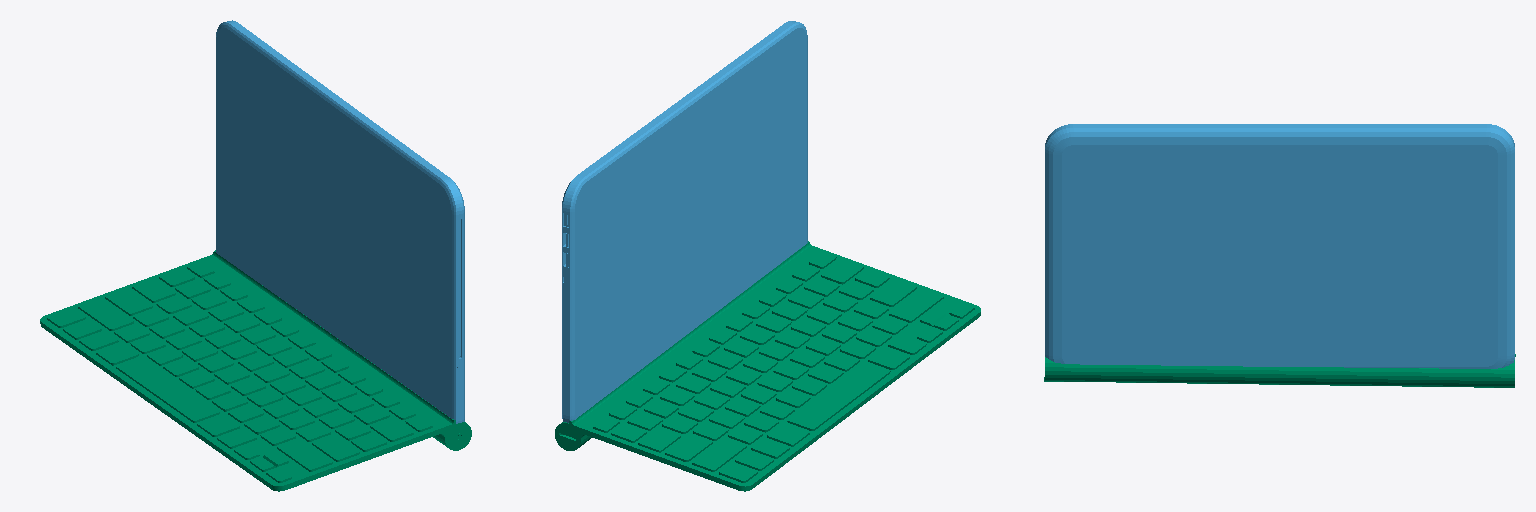
robot.urdf — partnet_f7c26b8c94ba8214397c35f585745a82:
<?xml version="1.0" ?>
<robot name="partnet_f7c26b8c94ba8214397c35f585745a82">
	<link name="base"/>
	<link name="link_0">
		<visual name="screen-7">
			<origin xyz="-0.8228353367190304 0.17855385109469168 0.1391766418171083"/>
			<geometry>
				<mesh filename="textured_objs/new-2.obj"/>
			</geometry>
		</visual>
		<visual name="screen_frame-8">
			<origin xyz="-0.8228353367190304 0.17855385109469168 0.1391766418171083"/>
			<geometry>
				<mesh filename="textured_objs/new-3.obj"/>
			</geometry>
		</visual>
		<collision>
			<origin xyz="-0.8228353367190304 0.17855385109469168 0.1391766418171083"/>
			<geometry>
				<mesh filename="textured_objs/new-2.obj"/>
			</geometry>
		</collision>
		<collision>
			<origin xyz="-0.8228353367190304 0.17855385109469168 0.1391766418171083"/>
			<geometry>
				<mesh filename="textured_objs/new-3.obj"/>
			</geometry>
		</collision>
	</link>
	<joint name="joint_0" type="revolute">
		<origin xyz="0.8228353367190304 -0.17855385109469168 -0.1391766418171083"/>
		<axis xyz="-1 0 0"/>
		<child link="link_0"/>
		<parent link="link_1"/>
		<limit lower="-1.6838936623241292" upper="-0.0"/>
	</joint>
	<link name="link_1">
		<visual name="shaft-4">
			<origin xyz="0 0 0"/>
			<geometry>
				<mesh filename="textured_objs/new-0.obj"/>
			</geometry>
		</visual>
		<visual name="keyboard-5">
			<origin xyz="0 0 0"/>
			<geometry>
				<mesh filename="textured_objs/original-8.obj"/>
			</geometry>
		</visual>
		<visual name="keyboard-5">
			<origin xyz="0 0 0"/>
			<geometry>
				<mesh filename="textured_objs/original-30.obj"/>
			</geometry>
		</visual>
		<visual name="keyboard-5">
			<origin xyz="0 0 0"/>
			<geometry>
				<mesh filename="textured_objs/original-53.obj"/>
			</geometry>
		</visual>
		<visual name="keyboard-5">
			<origin xyz="0 0 0"/>
			<geometry>
				<mesh filename="textured_objs/original-12.obj"/>
			</geometry>
		</visual>
		<visual name="keyboard-5">
			<origin xyz="0 0 0"/>
			<geometry>
				<mesh filename="textured_objs/original-15.obj"/>
			</geometry>
		</visual>
		<visual name="keyboard-5">
			<origin xyz="0 0 0"/>
			<geometry>
				<mesh filename="textured_objs/original-28.obj"/>
			</geometry>
		</visual>
		<visual name="keyboard-5">
			<origin xyz="0 0 0"/>
			<geometry>
				<mesh filename="textured_objs/original-82.obj"/>
			</geometry>
		</visual>
		<visual name="keyboard-5">
			<origin xyz="0 0 0"/>
			<geometry>
				<mesh filename="textured_objs/original-25.obj"/>
			</geometry>
		</visual>
		<visual name="keyboard-5">
			<origin xyz="0 0 0"/>
			<geometry>
				<mesh filename="textured_objs/original-10.obj"/>
			</geometry>
		</visual>
		<visual name="keyboard-5">
			<origin xyz="0 0 0"/>
			<geometry>
				<mesh filename="textured_objs/original-81.obj"/>
			</geometry>
		</visual>
		<visual name="keyboard-5">
			<origin xyz="0 0 0"/>
			<geometry>
				<mesh filename="textured_objs/original-71.obj"/>
			</geometry>
		</visual>
		<visual name="keyboard-5">
			<origin xyz="0 0 0"/>
			<geometry>
				<mesh filename="textured_objs/original-70.obj"/>
			</geometry>
		</visual>
		<visual name="keyboard-5">
			<origin xyz="0 0 0"/>
			<geometry>
				<mesh filename="textured_objs/original-58.obj"/>
			</geometry>
		</visual>
		<visual name="keyboard-5">
			<origin xyz="0 0 0"/>
			<geometry>
				<mesh filename="textured_objs/original-9.obj"/>
			</geometry>
		</visual>
		<visual name="keyboard-5">
			<origin xyz="0 0 0"/>
			<geometry>
				<mesh filename="textured_objs/original-11.obj"/>
			</geometry>
		</visual>
		<visual name="keyboard-5">
			<origin xyz="0 0 0"/>
			<geometry>
				<mesh filename="textured_objs/original-60.obj"/>
			</geometry>
		</visual>
		<visual name="keyboard-5">
			<origin xyz="0 0 0"/>
			<geometry>
				<mesh filename="textured_objs/original-63.obj"/>
			</geometry>
		</visual>
		<visual name="keyboard-5">
			<origin xyz="0 0 0"/>
			<geometry>
				<mesh filename="textured_objs/original-72.obj"/>
			</geometry>
		</visual>
		<visual name="keyboard-5">
			<origin xyz="0 0 0"/>
			<geometry>
				<mesh filename="textured_objs/original-83.obj"/>
			</geometry>
		</visual>
		<visual name="keyboard-5">
			<origin xyz="0 0 0"/>
			<geometry>
				<mesh filename="textured_objs/original-19.obj"/>
			</geometry>
		</visual>
		<visual name="keyboard-5">
			<origin xyz="0 0 0"/>
			<geometry>
				<mesh filename="textured_objs/original-80.obj"/>
			</geometry>
		</visual>
		<visual name="keyboard-5">
			<origin xyz="0 0 0"/>
			<geometry>
				<mesh filename="textured_objs/original-34.obj"/>
			</geometry>
		</visual>
		<visual name="keyboard-5">
			<origin xyz="0 0 0"/>
			<geometry>
				<mesh filename="textured_objs/original-64.obj"/>
			</geometry>
		</visual>
		<visual name="keyboard-5">
			<origin xyz="0 0 0"/>
			<geometry>
				<mesh filename="textured_objs/original-59.obj"/>
			</geometry>
		</visual>
		<visual name="keyboard-5">
			<origin xyz="0 0 0"/>
			<geometry>
				<mesh filename="textured_objs/original-17.obj"/>
			</geometry>
		</visual>
		<visual name="keyboard-5">
			<origin xyz="0 0 0"/>
			<geometry>
				<mesh filename="textured_objs/original-14.obj"/>
			</geometry>
		</visual>
		<visual name="keyboard-5">
			<origin xyz="0 0 0"/>
			<geometry>
				<mesh filename="textured_objs/original-62.obj"/>
			</geometry>
		</visual>
		<visual name="keyboard-5">
			<origin xyz="0 0 0"/>
			<geometry>
				<mesh filename="textured_objs/original-52.obj"/>
			</geometry>
		</visual>
		<visual name="keyboard-5">
			<origin xyz="0 0 0"/>
			<geometry>
				<mesh filename="textured_objs/original-37.obj"/>
			</geometry>
		</visual>
		<visual name="keyboard-5">
			<origin xyz="0 0 0"/>
			<geometry>
				<mesh filename="textured_objs/original-76.obj"/>
			</geometry>
		</visual>
		<visual name="keyboard-5">
			<origin xyz="0 0 0"/>
			<geometry>
				<mesh filename="textured_objs/original-73.obj"/>
			</geometry>
		</visual>
		<visual name="keyboard-5">
			<origin xyz="0 0 0"/>
			<geometry>
				<mesh filename="textured_objs/original-36.obj"/>
			</geometry>
		</visual>
		<visual name="keyboard-5">
			<origin xyz="0 0 0"/>
			<geometry>
				<mesh filename="textured_objs/original-51.obj"/>
			</geometry>
		</visual>
		<visual name="keyboard-5">
			<origin xyz="0 0 0"/>
			<geometry>
				<mesh filename="textured_objs/original-61.obj"/>
			</geometry>
		</visual>
		<visual name="keyboard-5">
			<origin xyz="0 0 0"/>
			<geometry>
				<mesh filename="textured_objs/original-69.obj"/>
			</geometry>
		</visual>
		<visual name="keyboard-5">
			<origin xyz="0 0 0"/>
			<geometry>
				<mesh filename="textured_objs/original-20.obj"/>
			</geometry>
		</visual>
		<visual name="keyboard-5">
			<origin xyz="0 0 0"/>
			<geometry>
				<mesh filename="textured_objs/original-16.obj"/>
			</geometry>
		</visual>
		<visual name="keyboard-5">
			<origin xyz="0 0 0"/>
			<geometry>
				<mesh filename="textured_objs/original-26.obj"/>
			</geometry>
		</visual>
		<visual name="keyboard-5">
			<origin xyz="0 0 0"/>
			<geometry>
				<mesh filename="textured_objs/original-46.obj"/>
			</geometry>
		</visual>
		<visual name="keyboard-5">
			<origin xyz="0 0 0"/>
			<geometry>
				<mesh filename="textured_objs/original-54.obj"/>
			</geometry>
		</visual>
		<visual name="keyboard-5">
			<origin xyz="0 0 0"/>
			<geometry>
				<mesh filename="textured_objs/original-35.obj"/>
			</geometry>
		</visual>
		<visual name="keyboard-5">
			<origin xyz="0 0 0"/>
			<geometry>
				<mesh filename="textured_objs/original-79.obj"/>
			</geometry>
		</visual>
		<visual name="keyboard-5">
			<origin xyz="0 0 0"/>
			<geometry>
				<mesh filename="textured_objs/original-74.obj"/>
			</geometry>
		</visual>
		<visual name="keyboard-5">
			<origin xyz="0 0 0"/>
			<geometry>
				<mesh filename="textured_objs/original-33.obj"/>
			</geometry>
		</visual>
		<visual name="keyboard-5">
			<origin xyz="0 0 0"/>
			<geometry>
				<mesh filename="textured_objs/original-65.obj"/>
			</geometry>
		</visual>
		<visual name="keyboard-5">
			<origin xyz="0 0 0"/>
			<geometry>
				<mesh filename="textured_objs/original-43.obj"/>
			</geometry>
		</visual>
		<visual name="keyboard-5">
			<origin xyz="0 0 0"/>
			<geometry>
				<mesh filename="textured_objs/original-24.obj"/>
			</geometry>
		</visual>
		<visual name="keyboard-5">
			<origin xyz="0 0 0"/>
			<geometry>
				<mesh filename="textured_objs/original-22.obj"/>
			</geometry>
		</visual>
		<visual name="keyboard-5">
			<origin xyz="0 0 0"/>
			<geometry>
				<mesh filename="textured_objs/original-44.obj"/>
			</geometry>
		</visual>
		<visual name="keyboard-5">
			<origin xyz="0 0 0"/>
			<geometry>
				<mesh filename="textured_objs/original-67.obj"/>
			</geometry>
		</visual>
		<visual name="keyboard-5">
			<origin xyz="0 0 0"/>
			<geometry>
				<mesh filename="textured_objs/original-40.obj"/>
			</geometry>
		</visual>
		<visual name="keyboard-5">
			<origin xyz="0 0 0"/>
			<geometry>
				<mesh filename="textured_objs/original-77.obj"/>
			</geometry>
		</visual>
		<visual name="keyboard-5">
			<origin xyz="0 0 0"/>
			<geometry>
				<mesh filename="textured_objs/original-27.obj"/>
			</geometry>
		</visual>
		<visual name="keyboard-5">
			<origin xyz="0 0 0"/>
			<geometry>
				<mesh filename="textured_objs/original-13.obj"/>
			</geometry>
		</visual>
		<visual name="keyboard-5">
			<origin xyz="0 0 0"/>
			<geometry>
				<mesh filename="textured_objs/original-75.obj"/>
			</geometry>
		</visual>
		<visual name="keyboard-5">
			<origin xyz="0 0 0"/>
			<geometry>
				<mesh filename="textured_objs/original-38.obj"/>
			</geometry>
		</visual>
		<visual name="keyboard-5">
			<origin xyz="0 0 0"/>
			<geometry>
				<mesh filename="textured_objs/original-66.obj"/>
			</geometry>
		</visual>
		<visual name="keyboard-5">
			<origin xyz="0 0 0"/>
			<geometry>
				<mesh filename="textured_objs/original-57.obj"/>
			</geometry>
		</visual>
		<visual name="keyboard-5">
			<origin xyz="0 0 0"/>
			<geometry>
				<mesh filename="textured_objs/original-68.obj"/>
			</geometry>
		</visual>
		<visual name="keyboard-5">
			<origin xyz="0 0 0"/>
			<geometry>
				<mesh filename="textured_objs/original-78.obj"/>
			</geometry>
		</visual>
		<visual name="keyboard-5">
			<origin xyz="0 0 0"/>
			<geometry>
				<mesh filename="textured_objs/original-29.obj"/>
			</geometry>
		</visual>
		<visual name="keyboard-5">
			<origin xyz="0 0 0"/>
			<geometry>
				<mesh filename="textured_objs/original-18.obj"/>
			</geometry>
		</visual>
		<visual name="keyboard-5">
			<origin xyz="0 0 0"/>
			<geometry>
				<mesh filename="textured_objs/original-32.obj"/>
			</geometry>
		</visual>
		<visual name="keyboard-5">
			<origin xyz="0 0 0"/>
			<geometry>
				<mesh filename="textured_objs/original-23.obj"/>
			</geometry>
		</visual>
		<visual name="keyboard-5">
			<origin xyz="0 0 0"/>
			<geometry>
				<mesh filename="textured_objs/original-7.obj"/>
			</geometry>
		</visual>
		<visual name="keyboard-5">
			<origin xyz="0 0 0"/>
			<geometry>
				<mesh filename="textured_objs/original-39.obj"/>
			</geometry>
		</visual>
		<visual name="keyboard-5">
			<origin xyz="0 0 0"/>
			<geometry>
				<mesh filename="textured_objs/original-56.obj"/>
			</geometry>
		</visual>
		<visual name="keyboard-5">
			<origin xyz="0 0 0"/>
			<geometry>
				<mesh filename="textured_objs/original-55.obj"/>
			</geometry>
		</visual>
		<visual name="keyboard-5">
			<origin xyz="0 0 0"/>
			<geometry>
				<mesh filename="textured_objs/original-50.obj"/>
			</geometry>
		</visual>
		<visual name="keyboard-5">
			<origin xyz="0 0 0"/>
			<geometry>
				<mesh filename="textured_objs/original-45.obj"/>
			</geometry>
		</visual>
		<visual name="keyboard-5">
			<origin xyz="0 0 0"/>
			<geometry>
				<mesh filename="textured_objs/original-42.obj"/>
			</geometry>
		</visual>
		<visual name="keyboard-5">
			<origin xyz="0 0 0"/>
			<geometry>
				<mesh filename="textured_objs/original-31.obj"/>
			</geometry>
		</visual>
		<visual name="keyboard-5">
			<origin xyz="0 0 0"/>
			<geometry>
				<mesh filename="textured_objs/original-49.obj"/>
			</geometry>
		</visual>
		<visual name="keyboard-5">
			<origin xyz="0 0 0"/>
			<geometry>
				<mesh filename="textured_objs/original-47.obj"/>
			</geometry>
		</visual>
		<visual name="keyboard-5">
			<origin xyz="0 0 0"/>
			<geometry>
				<mesh filename="textured_objs/original-41.obj"/>
			</geometry>
		</visual>
		<visual name="keyboard-5">
			<origin xyz="0 0 0"/>
			<geometry>
				<mesh filename="textured_objs/original-21.obj"/>
			</geometry>
		</visual>
		<visual name="keyboard-5">
			<origin xyz="0 0 0"/>
			<geometry>
				<mesh filename="textured_objs/original-48.obj"/>
			</geometry>
		</visual>
		<visual name="base_frame-6">
			<origin xyz="0 0 0"/>
			<geometry>
				<mesh filename="textured_objs/new-1.obj"/>
			</geometry>
		</visual>
		<collision>
			<origin xyz="0 0 0"/>
			<geometry>
				<mesh filename="textured_objs/new-0.obj"/>
			</geometry>
		</collision>
		<collision>
			<origin xyz="0 0 0"/>
			<geometry>
				<mesh filename="textured_objs/original-8.obj"/>
			</geometry>
		</collision>
		<collision>
			<origin xyz="0 0 0"/>
			<geometry>
				<mesh filename="textured_objs/original-30.obj"/>
			</geometry>
		</collision>
		<collision>
			<origin xyz="0 0 0"/>
			<geometry>
				<mesh filename="textured_objs/original-53.obj"/>
			</geometry>
		</collision>
		<collision>
			<origin xyz="0 0 0"/>
			<geometry>
				<mesh filename="textured_objs/original-12.obj"/>
			</geometry>
		</collision>
		<collision>
			<origin xyz="0 0 0"/>
			<geometry>
				<mesh filename="textured_objs/original-15.obj"/>
			</geometry>
		</collision>
		<collision>
			<origin xyz="0 0 0"/>
			<geometry>
				<mesh filename="textured_objs/original-28.obj"/>
			</geometry>
		</collision>
		<collision>
			<origin xyz="0 0 0"/>
			<geometry>
				<mesh filename="textured_objs/original-82.obj"/>
			</geometry>
		</collision>
		<collision>
			<origin xyz="0 0 0"/>
			<geometry>
				<mesh filename="textured_objs/original-25.obj"/>
			</geometry>
		</collision>
		<collision>
			<origin xyz="0 0 0"/>
			<geometry>
				<mesh filename="textured_objs/original-10.obj"/>
			</geometry>
		</collision>
		<collision>
			<origin xyz="0 0 0"/>
			<geometry>
				<mesh filename="textured_objs/original-81.obj"/>
			</geometry>
		</collision>
		<collision>
			<origin xyz="0 0 0"/>
			<geometry>
				<mesh filename="textured_objs/original-71.obj"/>
			</geometry>
		</collision>
		<collision>
			<origin xyz="0 0 0"/>
			<geometry>
				<mesh filename="textured_objs/original-70.obj"/>
			</geometry>
		</collision>
		<collision>
			<origin xyz="0 0 0"/>
			<geometry>
				<mesh filename="textured_objs/original-58.obj"/>
			</geometry>
		</collision>
		<collision>
			<origin xyz="0 0 0"/>
			<geometry>
				<mesh filename="textured_objs/original-9.obj"/>
			</geometry>
		</collision>
		<collision>
			<origin xyz="0 0 0"/>
			<geometry>
				<mesh filename="textured_objs/original-11.obj"/>
			</geometry>
		</collision>
		<collision>
			<origin xyz="0 0 0"/>
			<geometry>
				<mesh filename="textured_objs/original-60.obj"/>
			</geometry>
		</collision>
		<collision>
			<origin xyz="0 0 0"/>
			<geometry>
				<mesh filename="textured_objs/original-63.obj"/>
			</geometry>
		</collision>
		<collision>
			<origin xyz="0 0 0"/>
			<geometry>
				<mesh filename="textured_objs/original-72.obj"/>
			</geometry>
		</collision>
		<collision>
			<origin xyz="0 0 0"/>
			<geometry>
				<mesh filename="textured_objs/original-83.obj"/>
			</geometry>
		</collision>
		<collision>
			<origin xyz="0 0 0"/>
			<geometry>
				<mesh filename="textured_objs/original-19.obj"/>
			</geometry>
		</collision>
		<collision>
			<origin xyz="0 0 0"/>
			<geometry>
				<mesh filename="textured_objs/original-80.obj"/>
			</geometry>
		</collision>
		<collision>
			<origin xyz="0 0 0"/>
			<geometry>
				<mesh filename="textured_objs/original-34.obj"/>
			</geometry>
		</collision>
		<collision>
			<origin xyz="0 0 0"/>
			<geometry>
				<mesh filename="textured_objs/original-64.obj"/>
			</geometry>
		</collision>
		<collision>
			<origin xyz="0 0 0"/>
			<geometry>
				<mesh filename="textured_objs/original-59.obj"/>
			</geometry>
		</collision>
		<collision>
			<origin xyz="0 0 0"/>
			<geometry>
				<mesh filename="textured_objs/original-17.obj"/>
			</geometry>
		</collision>
		<collision>
			<origin xyz="0 0 0"/>
			<geometry>
				<mesh filename="textured_objs/original-14.obj"/>
			</geometry>
		</collision>
		<collision>
			<origin xyz="0 0 0"/>
			<geometry>
				<mesh filename="textured_objs/original-62.obj"/>
			</geometry>
		</collision>
		<collision>
			<origin xyz="0 0 0"/>
			<geometry>
				<mesh filename="textured_objs/original-52.obj"/>
			</geometry>
		</collision>
		<collision>
			<origin xyz="0 0 0"/>
			<geometry>
				<mesh filename="textured_objs/original-37.obj"/>
			</geometry>
		</collision>
		<collision>
			<origin xyz="0 0 0"/>
			<geometry>
				<mesh filename="textured_objs/original-76.obj"/>
			</geometry>
		</collision>
		<collision>
			<origin xyz="0 0 0"/>
			<geometry>
				<mesh filename="textured_objs/original-73.obj"/>
			</geometry>
		</collision>
		<collision>
			<origin xyz="0 0 0"/>
			<geometry>
				<mesh filename="textured_objs/original-36.obj"/>
			</geometry>
		</collision>
		<collision>
			<origin xyz="0 0 0"/>
			<geometry>
				<mesh filename="textured_objs/original-51.obj"/>
			</geometry>
		</collision>
		<collision>
			<origin xyz="0 0 0"/>
			<geometry>
				<mesh filename="textured_objs/original-61.obj"/>
			</geometry>
		</collision>
		<collision>
			<origin xyz="0 0 0"/>
			<geometry>
				<mesh filename="textured_objs/original-69.obj"/>
			</geometry>
		</collision>
		<collision>
			<origin xyz="0 0 0"/>
			<geometry>
				<mesh filename="textured_objs/original-20.obj"/>
			</geometry>
		</collision>
		<collision>
			<origin xyz="0 0 0"/>
			<geometry>
				<mesh filename="textured_objs/original-16.obj"/>
			</geometry>
		</collision>
		<collision>
			<origin xyz="0 0 0"/>
			<geometry>
				<mesh filename="textured_objs/original-26.obj"/>
			</geometry>
		</collision>
		<collision>
			<origin xyz="0 0 0"/>
			<geometry>
				<mesh filename="textured_objs/original-46.obj"/>
			</geometry>
		</collision>
		<collision>
			<origin xyz="0 0 0"/>
			<geometry>
				<mesh filename="textured_objs/original-54.obj"/>
			</geometry>
		</collision>
		<collision>
			<origin xyz="0 0 0"/>
			<geometry>
				<mesh filename="textured_objs/original-35.obj"/>
			</geometry>
		</collision>
		<collision>
			<origin xyz="0 0 0"/>
			<geometry>
				<mesh filename="textured_objs/original-79.obj"/>
			</geometry>
		</collision>
		<collision>
			<origin xyz="0 0 0"/>
			<geometry>
				<mesh filename="textured_objs/original-74.obj"/>
			</geometry>
		</collision>
		<collision>
			<origin xyz="0 0 0"/>
			<geometry>
				<mesh filename="textured_objs/original-33.obj"/>
			</geometry>
		</collision>
		<collision>
			<origin xyz="0 0 0"/>
			<geometry>
				<mesh filename="textured_objs/original-65.obj"/>
			</geometry>
		</collision>
		<collision>
			<origin xyz="0 0 0"/>
			<geometry>
				<mesh filename="textured_objs/original-43.obj"/>
			</geometry>
		</collision>
		<collision>
			<origin xyz="0 0 0"/>
			<geometry>
				<mesh filename="textured_objs/original-24.obj"/>
			</geometry>
		</collision>
		<collision>
			<origin xyz="0 0 0"/>
			<geometry>
				<mesh filename="textured_objs/original-22.obj"/>
			</geometry>
		</collision>
		<collision>
			<origin xyz="0 0 0"/>
			<geometry>
				<mesh filename="textured_objs/original-44.obj"/>
			</geometry>
		</collision>
		<collision>
			<origin xyz="0 0 0"/>
			<geometry>
				<mesh filename="textured_objs/original-67.obj"/>
			</geometry>
		</collision>
		<collision>
			<origin xyz="0 0 0"/>
			<geometry>
				<mesh filename="textured_objs/original-40.obj"/>
			</geometry>
		</collision>
		<collision>
			<origin xyz="0 0 0"/>
			<geometry>
				<mesh filename="textured_objs/original-77.obj"/>
			</geometry>
		</collision>
		<collision>
			<origin xyz="0 0 0"/>
			<geometry>
				<mesh filename="textured_objs/original-27.obj"/>
			</geometry>
		</collision>
		<collision>
			<origin xyz="0 0 0"/>
			<geometry>
				<mesh filename="textured_objs/original-13.obj"/>
			</geometry>
		</collision>
		<collision>
			<origin xyz="0 0 0"/>
			<geometry>
				<mesh filename="textured_objs/original-75.obj"/>
			</geometry>
		</collision>
		<collision>
			<origin xyz="0 0 0"/>
			<geometry>
				<mesh filename="textured_objs/original-38.obj"/>
			</geometry>
		</collision>
		<collision>
			<origin xyz="0 0 0"/>
			<geometry>
				<mesh filename="textured_objs/original-66.obj"/>
			</geometry>
		</collision>
		<collision>
			<origin xyz="0 0 0"/>
			<geometry>
				<mesh filename="textured_objs/original-57.obj"/>
			</geometry>
		</collision>
		<collision>
			<origin xyz="0 0 0"/>
			<geometry>
				<mesh filename="textured_objs/original-68.obj"/>
			</geometry>
		</collision>
		<collision>
			<origin xyz="0 0 0"/>
			<geometry>
				<mesh filename="textured_objs/original-78.obj"/>
			</geometry>
		</collision>
		<collision>
			<origin xyz="0 0 0"/>
			<geometry>
				<mesh filename="textured_objs/original-29.obj"/>
			</geometry>
		</collision>
		<collision>
			<origin xyz="0 0 0"/>
			<geometry>
				<mesh filename="textured_objs/original-18.obj"/>
			</geometry>
		</collision>
		<collision>
			<origin xyz="0 0 0"/>
			<geometry>
				<mesh filename="textured_objs/original-32.obj"/>
			</geometry>
		</collision>
		<collision>
			<origin xyz="0 0 0"/>
			<geometry>
				<mesh filename="textured_objs/original-23.obj"/>
			</geometry>
		</collision>
		<collision>
			<origin xyz="0 0 0"/>
			<geometry>
				<mesh filename="textured_objs/original-7.obj"/>
			</geometry>
		</collision>
		<collision>
			<origin xyz="0 0 0"/>
			<geometry>
				<mesh filename="textured_objs/original-39.obj"/>
			</geometry>
		</collision>
		<collision>
			<origin xyz="0 0 0"/>
			<geometry>
				<mesh filename="textured_objs/original-56.obj"/>
			</geometry>
		</collision>
		<collision>
			<origin xyz="0 0 0"/>
			<geometry>
				<mesh filename="textured_objs/original-55.obj"/>
			</geometry>
		</collision>
		<collision>
			<origin xyz="0 0 0"/>
			<geometry>
				<mesh filename="textured_objs/original-50.obj"/>
			</geometry>
		</collision>
		<collision>
			<origin xyz="0 0 0"/>
			<geometry>
				<mesh filename="textured_objs/original-45.obj"/>
			</geometry>
		</collision>
		<collision>
			<origin xyz="0 0 0"/>
			<geometry>
				<mesh filename="textured_objs/original-42.obj"/>
			</geometry>
		</collision>
		<collision>
			<origin xyz="0 0 0"/>
			<geometry>
				<mesh filename="textured_objs/original-31.obj"/>
			</geometry>
		</collision>
		<collision>
			<origin xyz="0 0 0"/>
			<geometry>
				<mesh filename="textured_objs/original-49.obj"/>
			</geometry>
		</collision>
		<collision>
			<origin xyz="0 0 0"/>
			<geometry>
				<mesh filename="textured_objs/original-47.obj"/>
			</geometry>
		</collision>
		<collision>
			<origin xyz="0 0 0"/>
			<geometry>
				<mesh filename="textured_objs/original-41.obj"/>
			</geometry>
		</collision>
		<collision>
			<origin xyz="0 0 0"/>
			<geometry>
				<mesh filename="textured_objs/original-21.obj"/>
			</geometry>
		</collision>
		<collision>
			<origin xyz="0 0 0"/>
			<geometry>
				<mesh filename="textured_objs/original-48.obj"/>
			</geometry>
		</collision>
		<collision>
			<origin xyz="0 0 0"/>
			<geometry>
				<mesh filename="textured_objs/new-1.obj"/>
			</geometry>
		</collision>
	</link>
	<joint name="joint_1" type="fixed">
		<origin rpy="1.570796326794897 0 -1.570796326794897" xyz="0 0 0"/>
		<child link="link_1"/>
		<parent link="base"/>
	</joint>
</robot>

--- Facts derived from the render (not from the file) ---
Views: 3 orthographic renders of the robot side by side, from view 1: azimuth 30°, elevation 25°; view 2: azimuth 150°, elevation 25°; view 3: azimuth 270°, elevation 25°.
Robot: partnet_f7c26b8c94ba8214397c35f585745a82 — 3 links, 2 joints (1 revolute, 1 fixed); root link base; default pose: every joint at zero.
Links seen in each view (by area): view 1: link_0, link_1; view 2: link_0, link_1; view 3: link_0, link_1.
Boxes of the visible links, x1,y1,x2,y2 form: link_0: (216,20,464,423); link_1: (40,250,471,491); link_0: (562,21,807,422); link_1: (555,241,980,491); link_0: (1045,124,1514,368); link_1: (1044,354,1515,387).
Size in the robot's own frame: 0.7595 by 1.62 by 0.9922 metres.
Meshes: 81 distinct files referenced, 81 mesh visuals loaded (81 OBJ).
